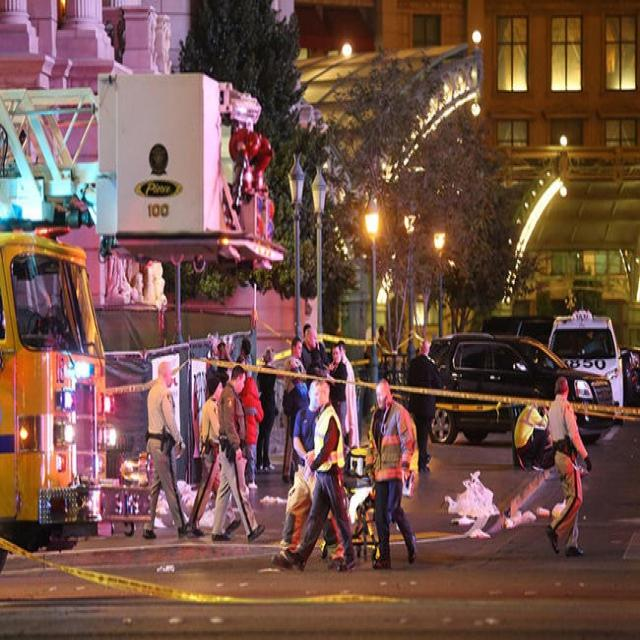body: (283, 377, 358, 575), (270, 377, 340, 572), (360, 377, 420, 575), (209, 359, 265, 547), (184, 365, 242, 539), (543, 372, 594, 559), (142, 356, 192, 542), (406, 338, 437, 476), (280, 335, 308, 479), (280, 358, 311, 485), (253, 347, 280, 476), (336, 338, 360, 451), (513, 400, 550, 473), (325, 343, 350, 443), (300, 322, 326, 369), (376, 324, 395, 382), (405, 329, 434, 365), (539, 406, 554, 473), (236, 336, 253, 378), (215, 338, 232, 361), (318, 339, 331, 364), (236, 355, 248, 374), (298, 322, 312, 334)
